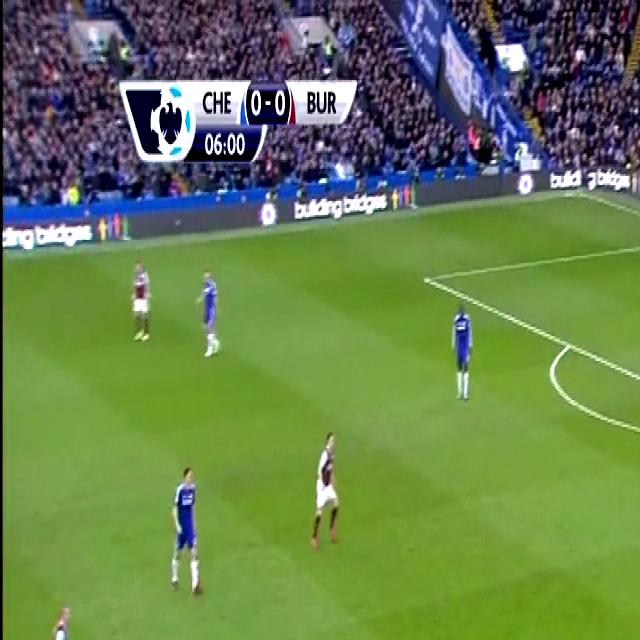soccer-player: (304, 411, 352, 559), (168, 458, 205, 600), (191, 265, 233, 371), (447, 296, 480, 417), (128, 243, 156, 357), (37, 604, 83, 640)
